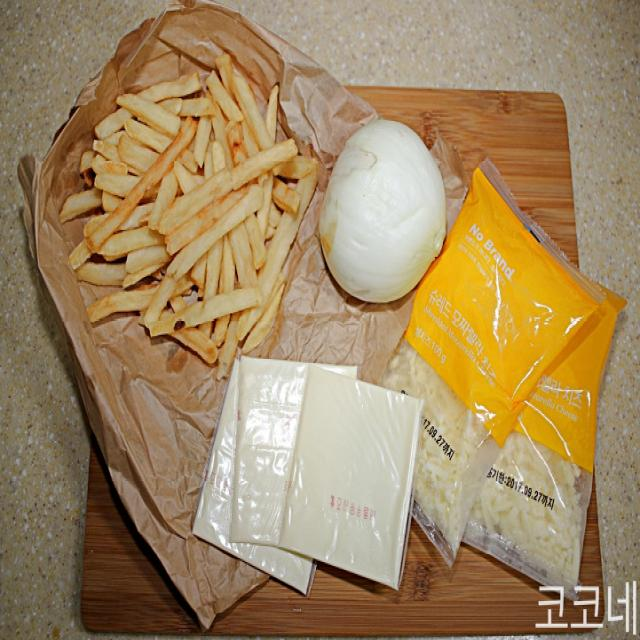cheese: (220, 356, 425, 600)
french_fries: (79, 80, 303, 350)
mozzarella cheese: (400, 196, 626, 562)
onion: (324, 123, 451, 304)
